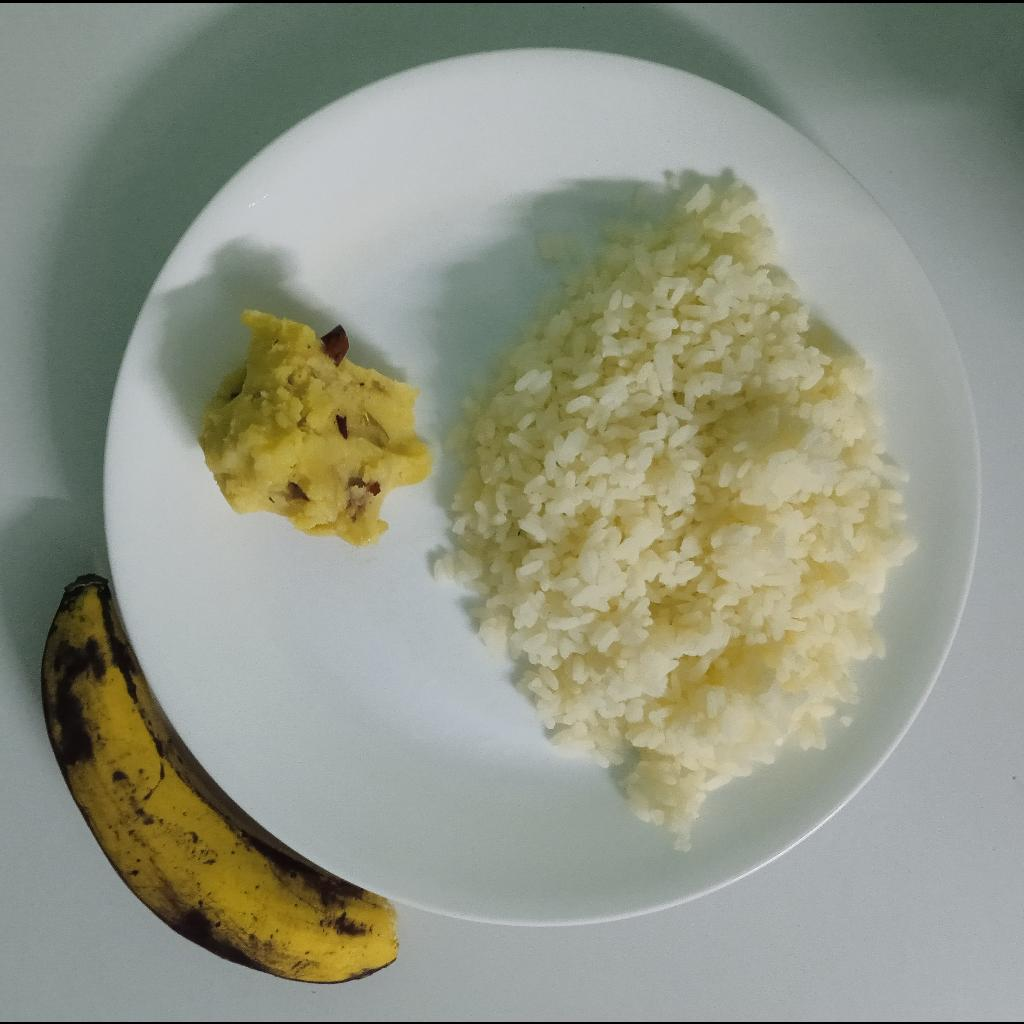banana: (40, 572, 398, 984)
potato-mashed: (193, 304, 434, 551)
rice: (431, 171, 917, 854)
